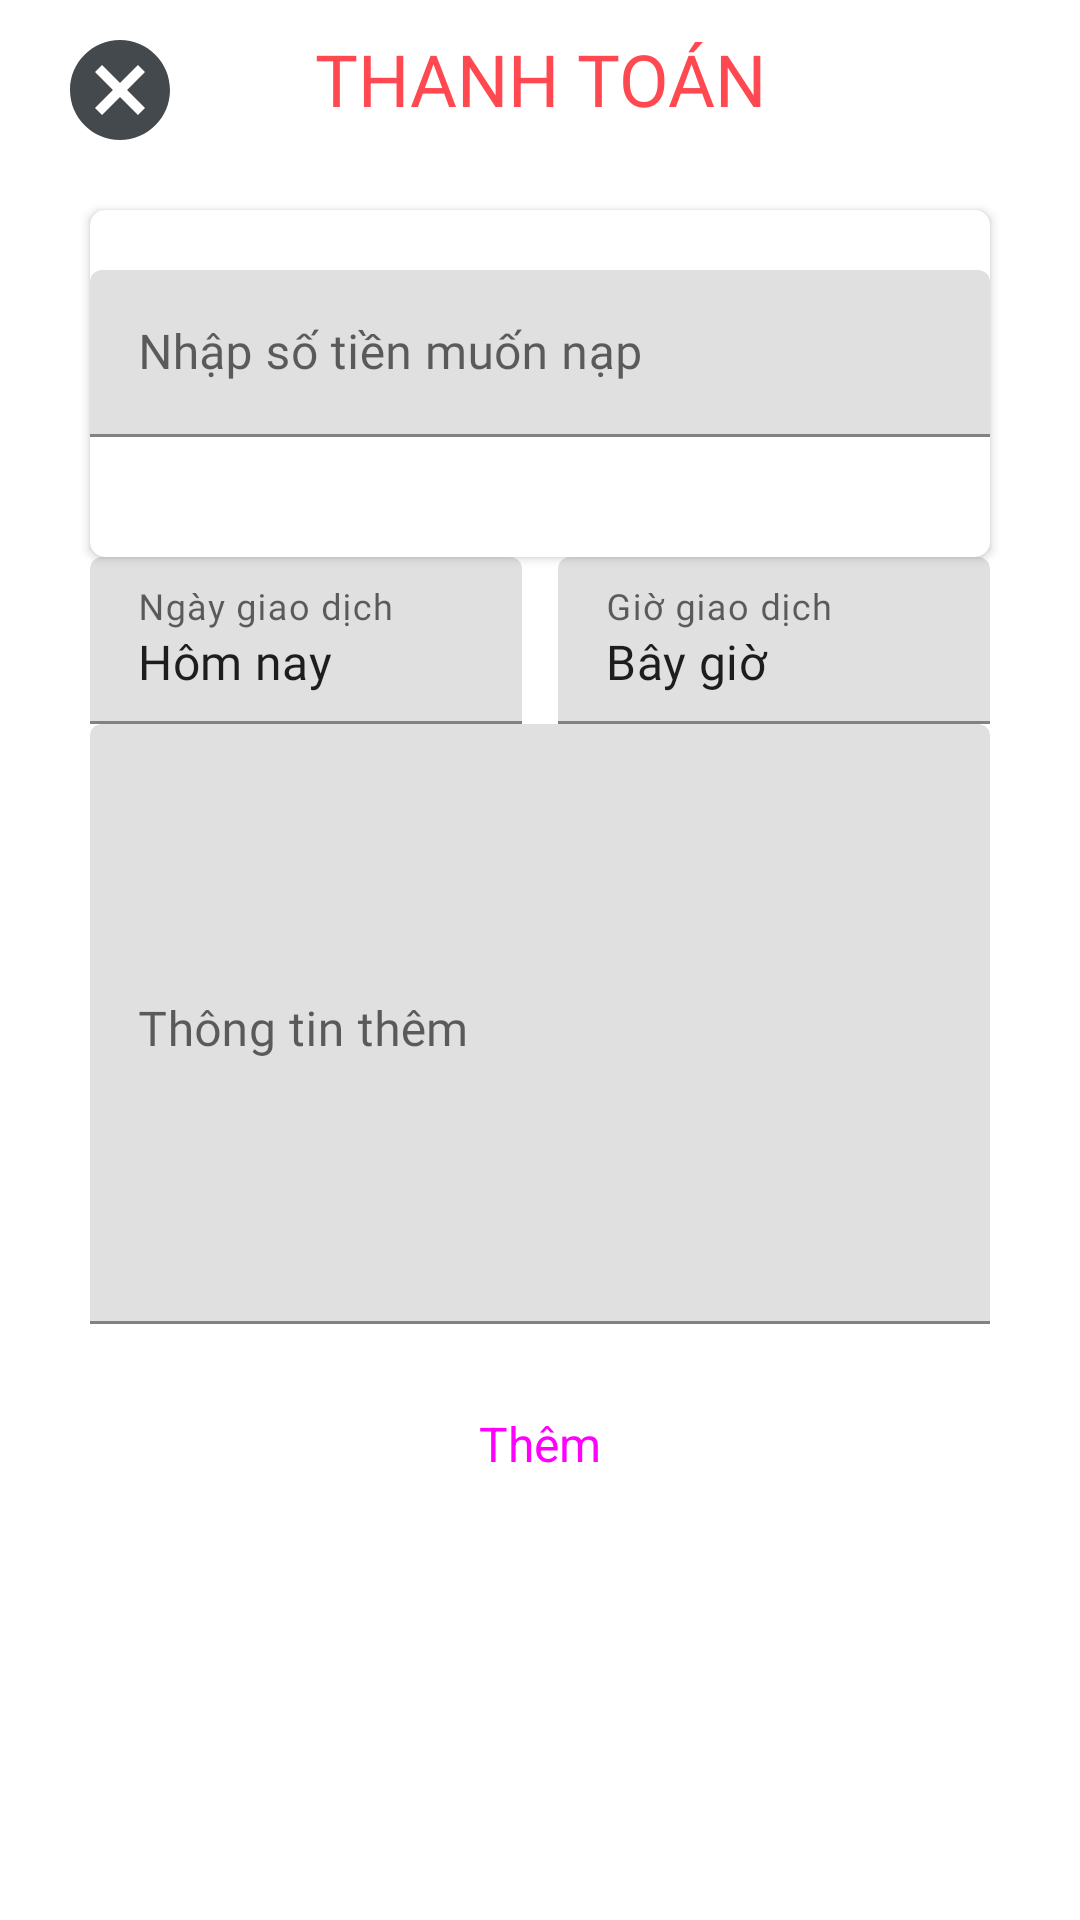

Point at icon controls on the screen. Image size 1080px x 1920px, points as point (x, y).
cancel: point (120, 90)
